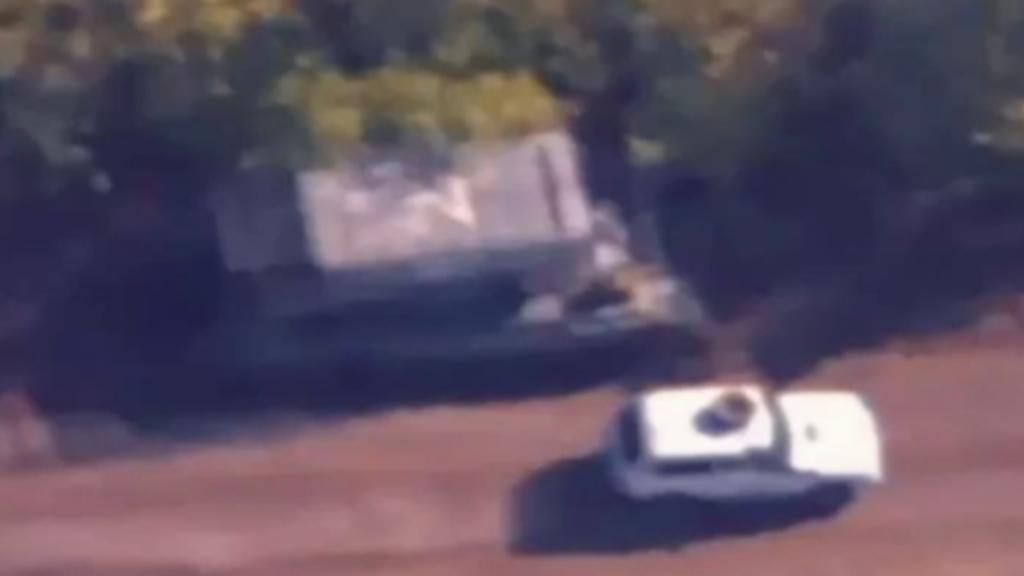CAR: (604, 379, 888, 515)
MLRS: (204, 124, 708, 351)
